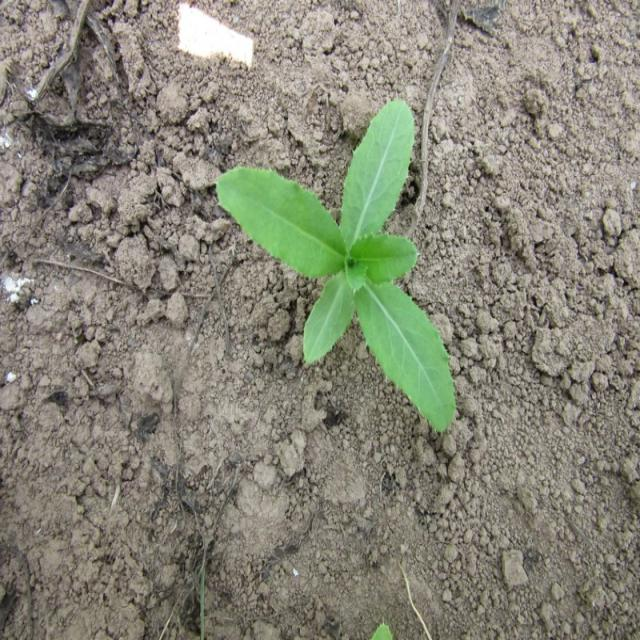field_thistle: (226, 113, 464, 434)
